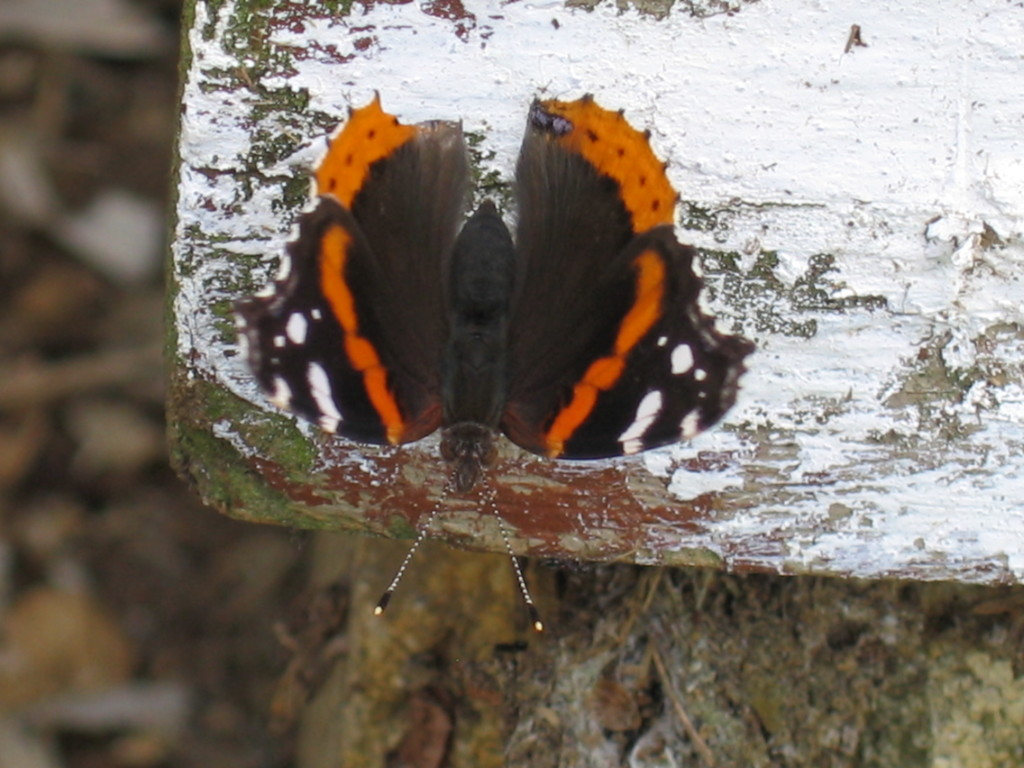Butterfly: (279, 86, 735, 591)
